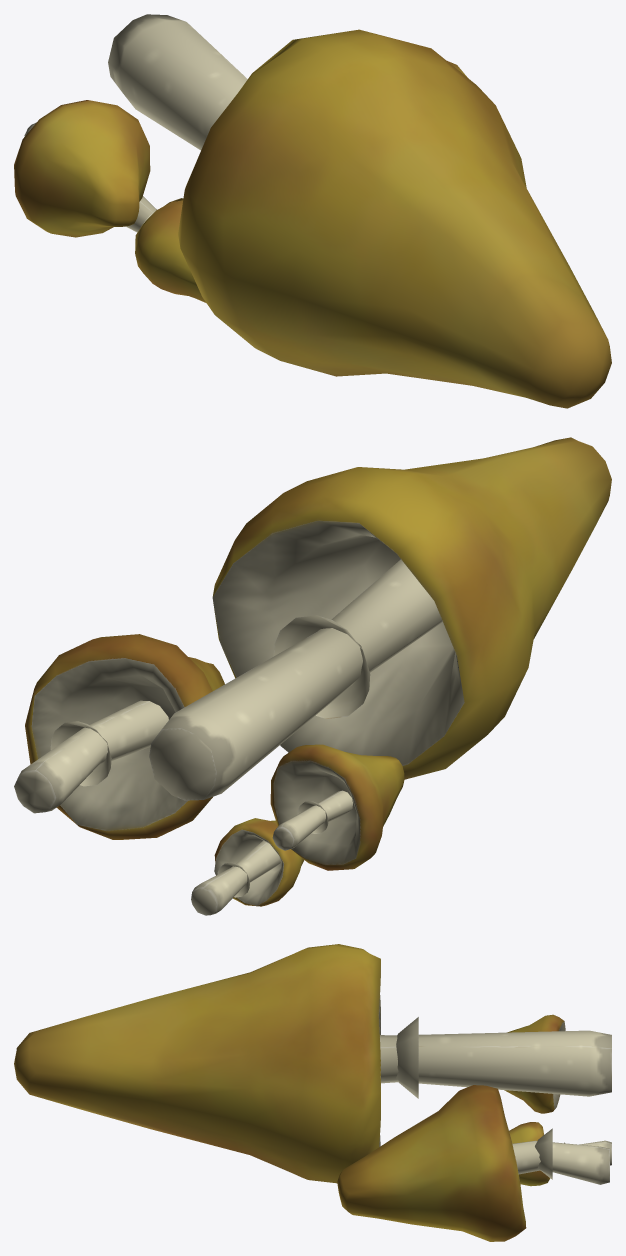
The model's file is mushroom6.glb.
The picture shows the model from 3 angles, top to bottom: view 1: azimuth 30°, elevation 25°; view 2: azimuth 150°, elevation 25°; view 3: azimuth 270°, elevation 25°; orthographic projection. The views are drawn at different scales.
Parts seen in each view (by area): view 1: 2.001_Plane.001; view 2: 2.001_Plane.001; view 3: 2.001_Plane.001.
Part boxes in pixels (box(x1,y1,x2,y2)): 2.001_Plane.001: box(14, 14, 611, 408); 2.001_Plane.001: box(14, 437, 611, 915); 2.001_Plane.001: box(14, 944, 611, 1241).
Bounding box in the file's own units: 1.11 × 0.8813 × 2.02.
1 material, 1 textured.
